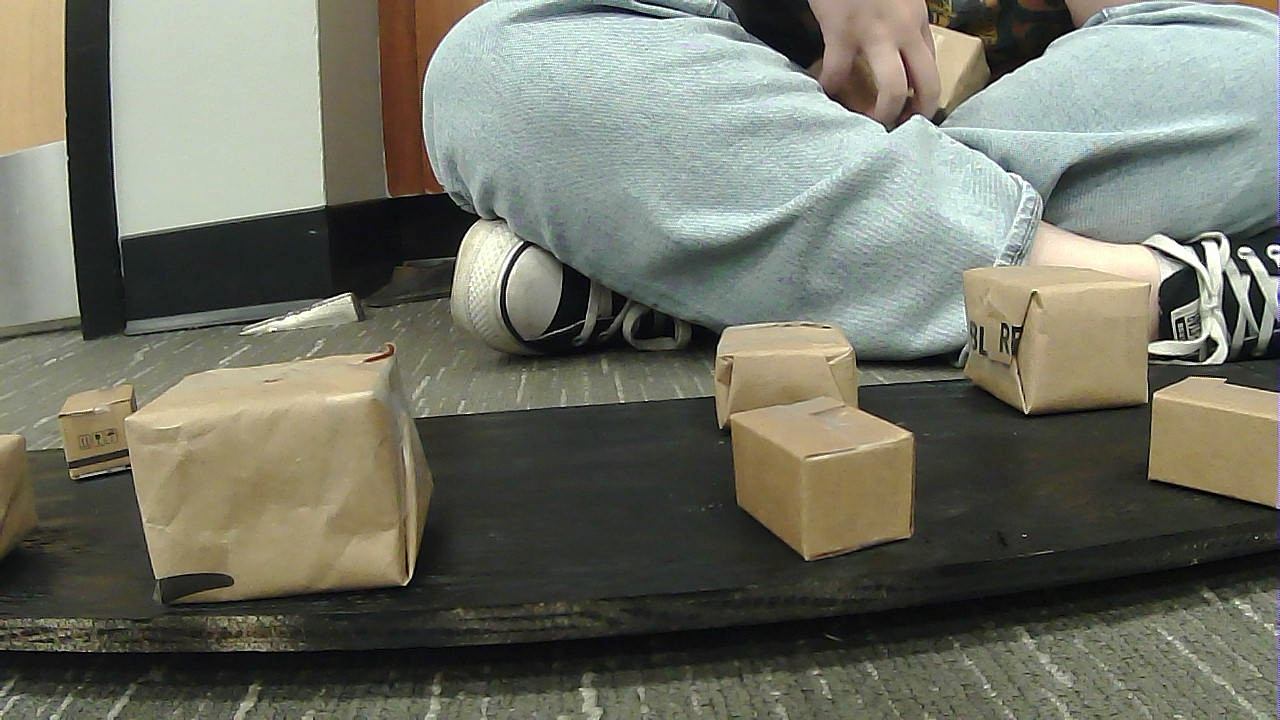package: (109, 361, 461, 601), (711, 409, 949, 564), (942, 242, 1152, 407), (698, 315, 883, 436), (1141, 377, 1276, 515), (41, 375, 169, 482), (3, 421, 46, 554)
